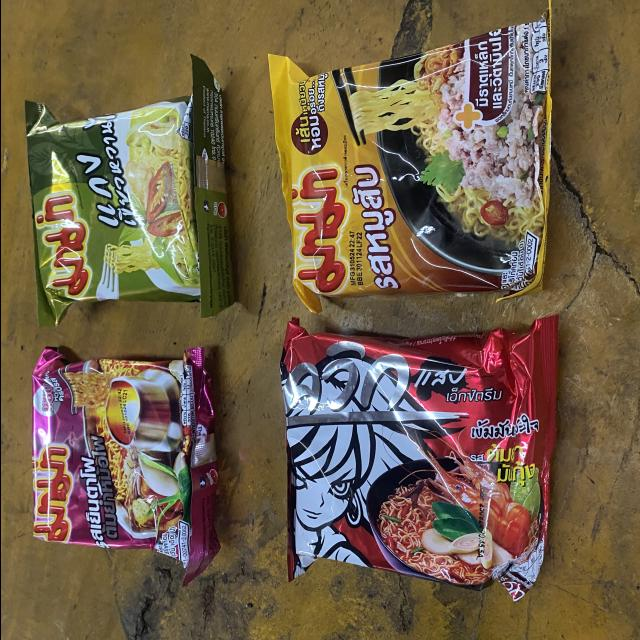plastik: (266, 0, 555, 313), (274, 312, 558, 602), (22, 53, 235, 327), (31, 344, 220, 583)
